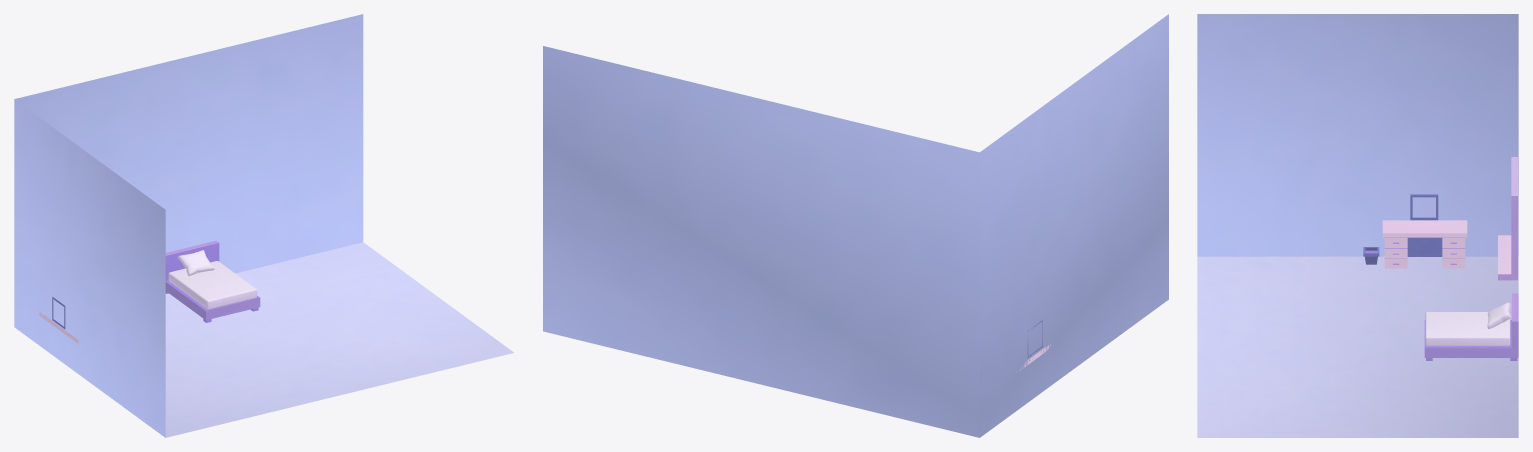
Rendered from Room.glb.
3 renders of one model, left to right at view 1: azimuth 30°, elevation 25°; view 2: azimuth 150°, elevation 25°; view 3: azimuth 270°, elevation 25°, orthographic. The views are drawn at different scales.
Visible parts, largest first — view 1: Walls, Bed, Pillow; view 2: Walls; view 3: Walls, Bed, Table, News, Pillow, PC.
Boxes of the visible parts, box(x1,y1,x2,y2) form: Walls: box(14, 14, 514, 437); Bed: box(165, 240, 260, 322); Pillow: box(177, 250, 214, 276); Walls: box(543, 14, 1168, 437); Walls: box(1197, 14, 1518, 437); Bed: box(1424, 293, 1518, 360); Table: box(1382, 220, 1467, 268); News: box(1498, 157, 1517, 280); Pillow: box(1487, 302, 1511, 329); PC: box(1410, 194, 1438, 220).
Bounding box in the file's own units: 32 × 20 × 24.
1 material, 1 textured.
